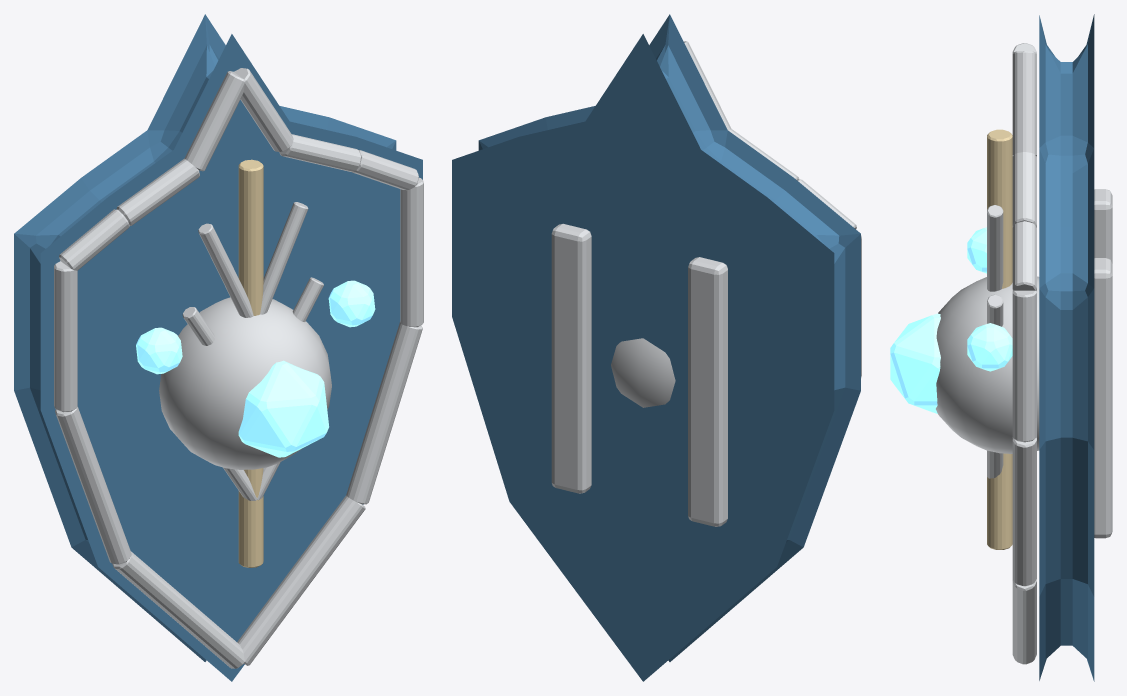
File: warrior-shield-07-blue-cathedral.glb
3 renders of one model, left to right at view 1: azimuth 30°, elevation 25°; view 2: azimuth 150°, elevation 25°; view 3: azimuth 270°, elevation 25°, orthographic. The views are drawn at different scales.
Visible parts, largest first — view 1: warrior-shield-07-blue-cathedral_ShieldBack, warrior-shield-07-blue-cathedral_BossBase, warrior-shield-07-blue-cathedral_BossGem, warrior-shield-07-blue-cathedral_CathedralSpire, warrior-shield-07-blue-cathedral_RaisedRim_4, warrior-shield-07-blue-cathedral_RaisedRim_5, warrior-shield-07-blue-cathedral_RaisedRim_2, warrior-shield-07-blue-cathedral_RaisedRim_3, warrior-shield-07-blue-cathedral_RaisedRim_1, warrior-shield-07-blue-cathedral_RaisedRim_6, warrior-shield-07-blue-cathedral_RaisedRim_10, warrior-shield-07-blue-cathedral_RaisedRim_11 (+10 smaller); view 2: warrior-shield-07-blue-cathedral_ShieldBack, warrior-shield-07-blue-cathedral_BackStrap_1, warrior-shield-07-blue-cathedral_BackStrap_-1, warrior-shield-07-blue-cathedral_BossBase; view 3: warrior-shield-07-blue-cathedral_ShieldBack, warrior-shield-07-blue-cathedral_BossBase, warrior-shield-07-blue-cathedral_BackStrap_1, warrior-shield-07-blue-cathedral_CathedralSpire, warrior-shield-07-blue-cathedral_BossGem, warrior-shield-07-blue-cathedral_RaisedRim_6, warrior-shield-07-blue-cathedral_RaisedRim_5, warrior-shield-07-blue-cathedral_RaisedRim_9, warrior-shield-07-blue-cathedral_RaisedRim_4, warrior-shield-07-blue-cathedral_CathedralSapphire_1, warrior-shield-07-blue-cathedral_RaisedRim_8, warrior-shield-07-blue-cathedral_RaisedRim_7 (+5 smaller).
Part boxes in pixels (x1=…): warrior-shield-07-blue-cathedral_ShieldBack: x1=14, y1=14, x2=422, y2=681; warrior-shield-07-blue-cathedral_BossBase: x1=159, y1=297, x2=331, y2=469; warrior-shield-07-blue-cathedral_BossGem: x1=238, y1=360, x2=329, y2=457; warrior-shield-07-blue-cathedral_CathedralSpire: x1=238, y1=159, x2=263, y2=567; warrior-shield-07-blue-cathedral_RaisedRim_4: x1=237, y1=495, x2=365, y2=665; warrior-shield-07-blue-cathedral_RaisedRim_5: x1=346, y1=321, x2=422, y2=504; warrior-shield-07-blue-cathedral_RaisedRim_2: x1=55, y1=407, x2=131, y2=564; warrior-shield-07-blue-cathedral_RaisedRim_3: x1=112, y1=551, x2=244, y2=668; warrior-shield-07-blue-cathedral_RaisedRim_1: x1=54, y1=261, x2=77, y2=412; warrior-shield-07-blue-cathedral_RaisedRim_6: x1=400, y1=177, x2=423, y2=327; warrior-shield-07-blue-cathedral_RaisedRim_10: x1=184, y1=71, x2=244, y2=171; warrior-shield-07-blue-cathedral_RaisedRim_11: x1=116, y1=158, x2=199, y2=225; warrior-shield-07-blue-cathedral_ShieldBack: x1=452, y1=14, x2=860, y2=681; warrior-shield-07-blue-cathedral_BackStrap_1: x1=551, y1=223, x2=591, y2=493; warrior-shield-07-blue-cathedral_BackStrap_-1: x1=688, y1=257, x2=727, y2=526; warrior-shield-07-blue-cathedral_BossBase: x1=611, y1=338, x2=675, y2=407; warrior-shield-07-blue-cathedral_ShieldBack: x1=1039, y1=14, x2=1094, y2=681; warrior-shield-07-blue-cathedral_BossBase: x1=936, y1=276, x2=1039, y2=453; warrior-shield-07-blue-cathedral_BackStrap_1: x1=1094, y1=258, x2=1112, y2=538; warrior-shield-07-blue-cathedral_CathedralSpire: x1=987, y1=129, x2=1012, y2=549; warrior-shield-07-blue-cathedral_BossGem: x1=890, y1=313, x2=940, y2=413; warrior-shield-07-blue-cathedral_RaisedRim_6: x1=1012, y1=290, x2=1036, y2=442; warrior-shield-07-blue-cathedral_RaisedRim_5: x1=1012, y1=437, x2=1036, y2=586; warrior-shield-07-blue-cathedral_RaisedRim_9: x1=1012, y1=51, x2=1036, y2=155; warrior-shield-07-blue-cathedral_RaisedRim_4: x1=1012, y1=579, x2=1036, y2=664; warrior-shield-07-blue-cathedral_CathedralSapphire_1: x1=967, y1=323, x2=1012, y2=371; warrior-shield-07-blue-cathedral_RaisedRim_8: x1=1012, y1=152, x2=1036, y2=227; warrior-shield-07-blue-cathedral_RaisedRim_7: x1=1012, y1=221, x2=1036, y2=290.
Bounding box in the file's own units: 0.9524 × 1.54 × 0.4652.
